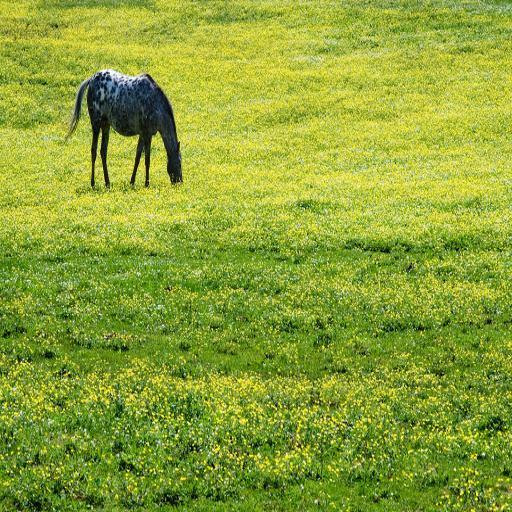horse: (64, 68, 186, 190)
